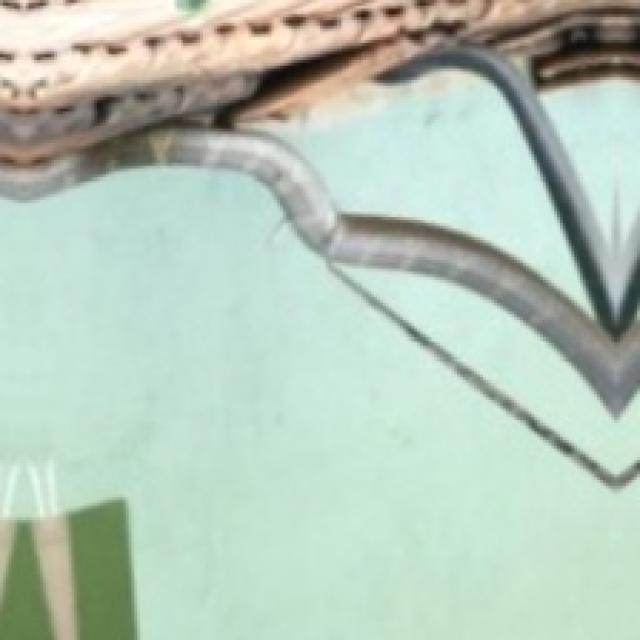king cobra: (0, 46, 637, 486)
